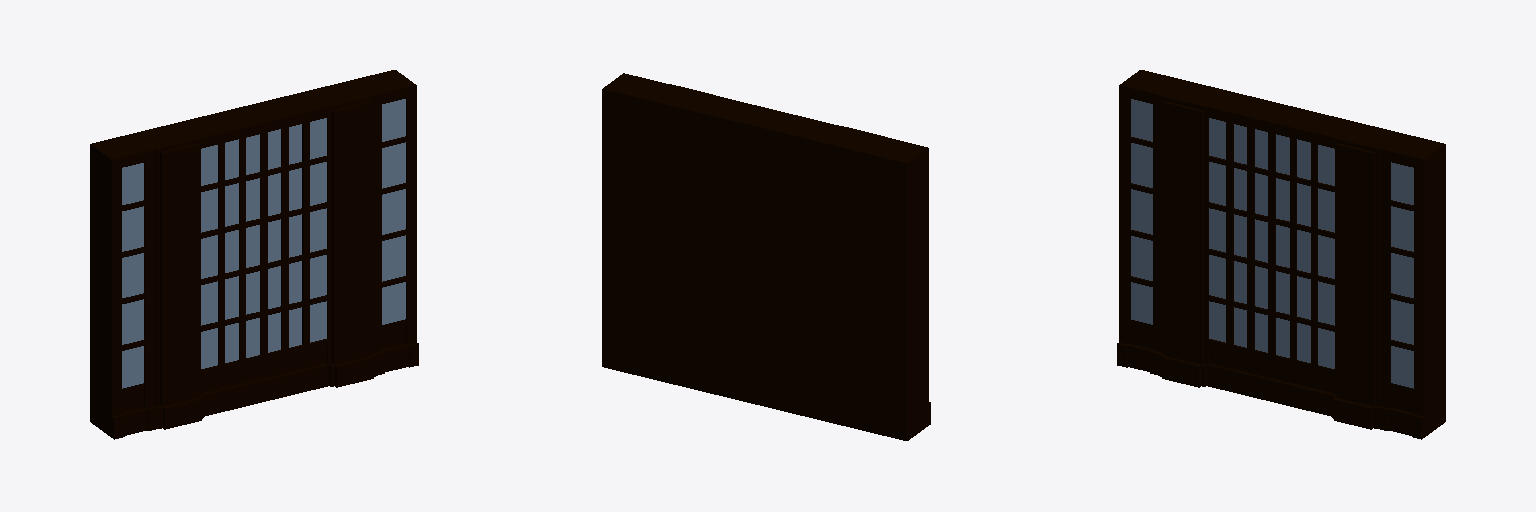
The model's file is MainDoorTop1.obj.
3 renders of one model, left to right at view 1: azimuth 30°, elevation 25°; view 2: azimuth 150°, elevation 25°; view 3: azimuth 330°, elevation 25°, orthographic.
Visible parts, largest first — view 1: Cube.024; view 2: Cube.024; view 3: Cube.024.
Boxes of the visible parts, <box> form: Cube.024: <box>90,70,418,439</box>; Cube.024: <box>602,73,930,440</box>; Cube.024: <box>1117,70,1445,439</box>.
Size of the model in its own units: 2.76 by 2.41 by 0.418.